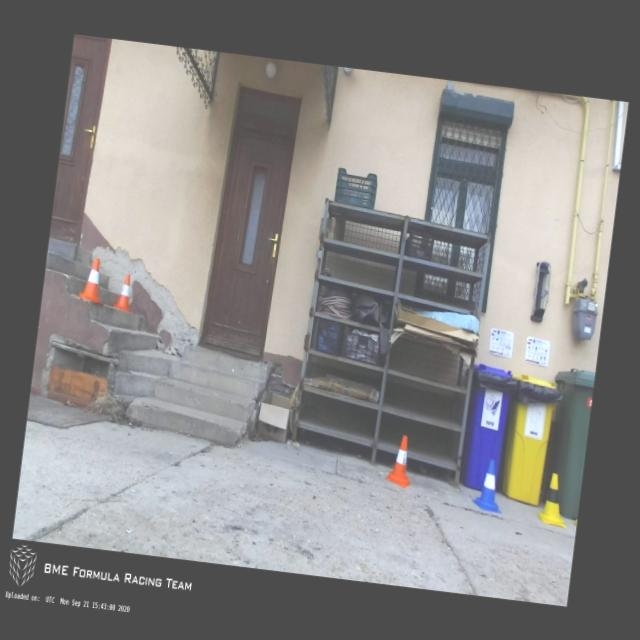blue_cone: (472, 458, 506, 513)
orange_cone: (384, 433, 415, 487), (78, 256, 105, 302), (112, 273, 134, 311)
yellow_cone: (536, 472, 572, 528)
